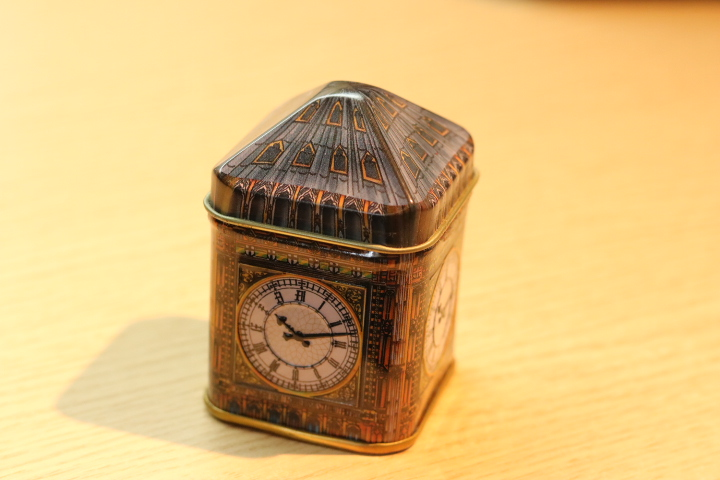Big Ben: (166, 60, 499, 464)
